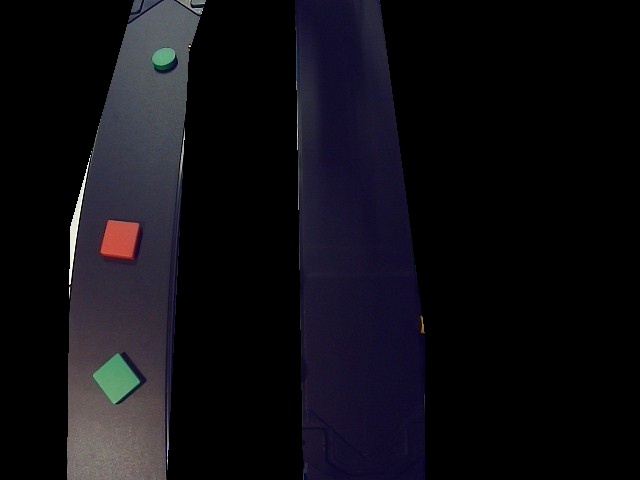Green_Circle: (151, 46, 180, 72)
Green_Square: (94, 351, 145, 403)
Red_Square: (101, 218, 143, 264)
